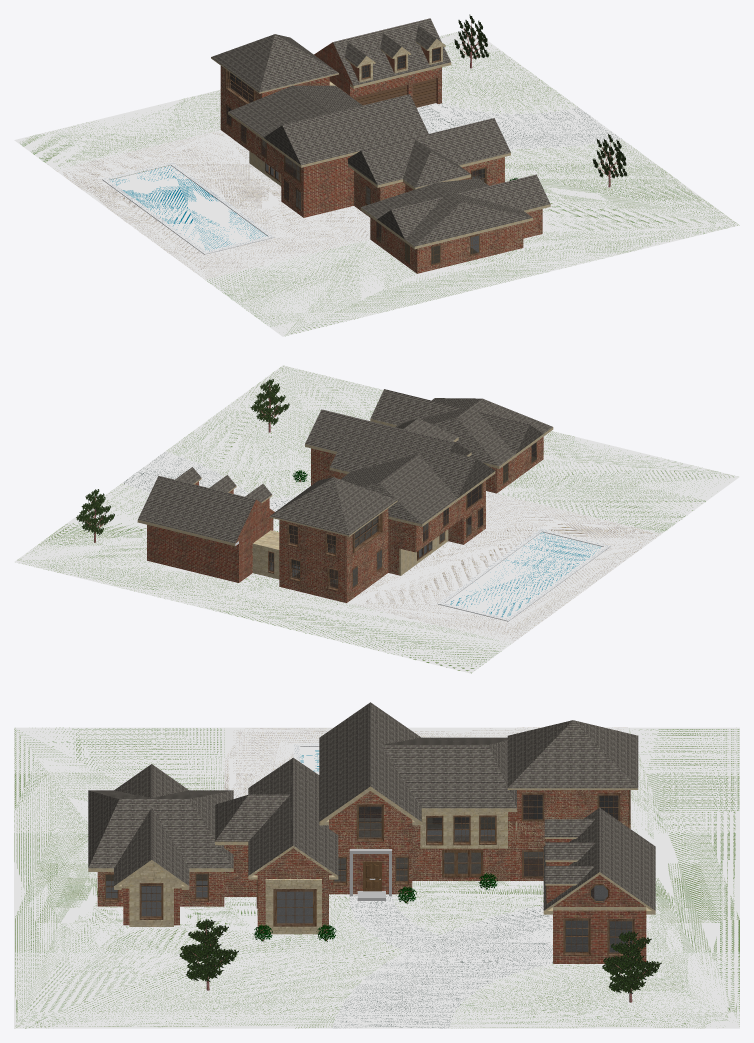
File: mansion.dae
The picture shows the model from 3 angles, top to bottom: view 1: azimuth 30°, elevation 25°; view 2: azimuth 150°, elevation 25°; view 3: azimuth 270°, elevation 25°; orthographic projection. The views are drawn at different scales.
Visible parts, largest first — view 1: SketchUp (×18); view 2: SketchUp (×17); view 3: SketchUp (×25), door2.dxf.
Boxes of the visible parts, bbox=[...] form: SketchUp (×18): bbox=[14, 18, 739, 336]; SketchUp (×17): bbox=[14, 365, 739, 673]; SketchUp (×25): bbox=[14, 702, 739, 1028]; door2.dxf: bbox=[363, 861, 381, 891].
Bounding box in the file's own units: 13672 × 13926 × 2978.
